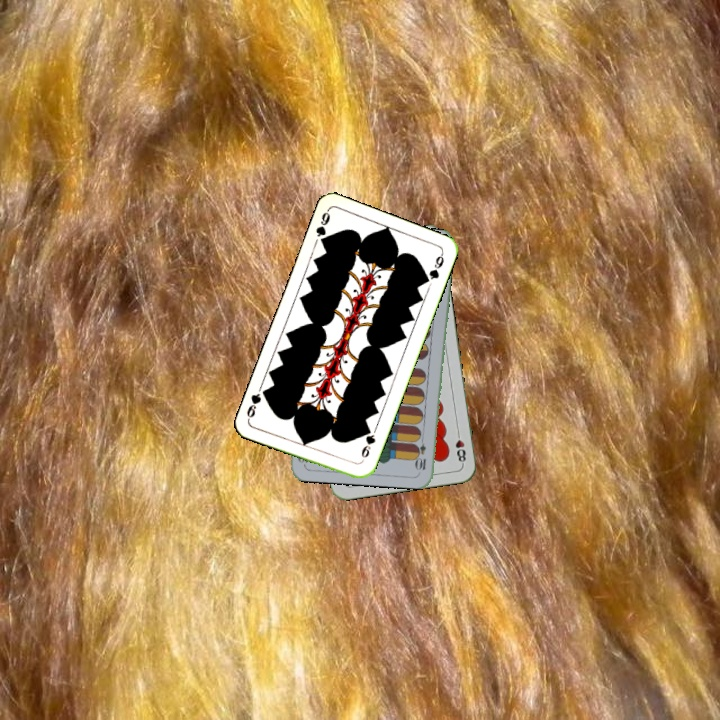E10: (414, 432, 429, 473)
G9: (312, 206, 333, 248), (357, 424, 378, 460)
H8: (451, 426, 468, 467)
